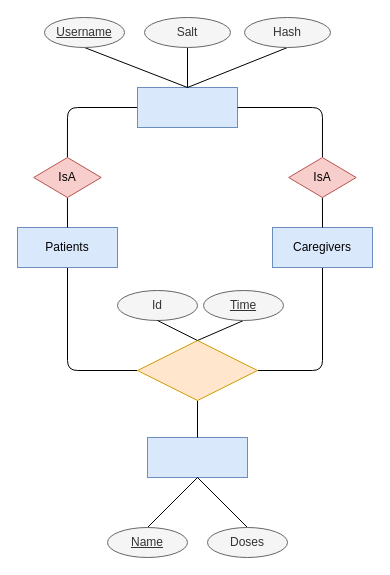
Image size: 390x575. Some labels were removed from this diagram. The centre of each missing label's shape, as x and y in pixels:
"Reservations" goes at (197,370).
"Users" goes at (187,107).
"Vaccines" goes at (197,457).
